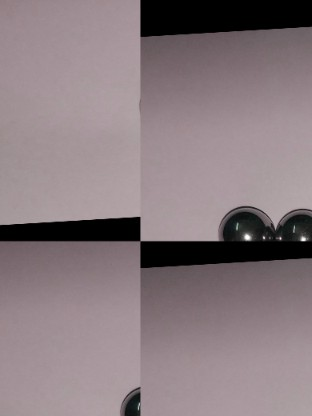ironball: (215, 202, 272, 245), (277, 203, 312, 244), (115, 381, 141, 415)
